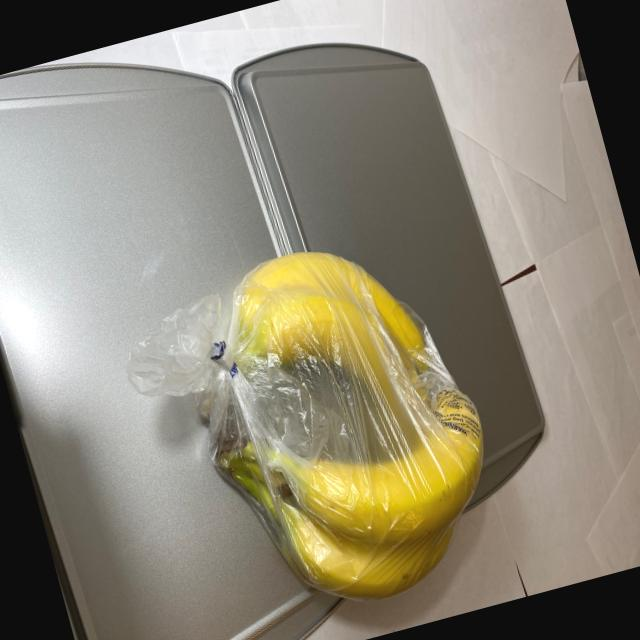banana: (154, 213, 522, 636)
